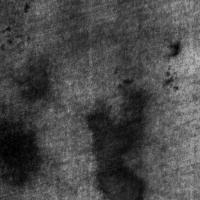patches: (54, 0, 200, 95), (120, 72, 200, 200), (81, 82, 149, 200), (1, 112, 40, 187), (14, 53, 53, 101)
